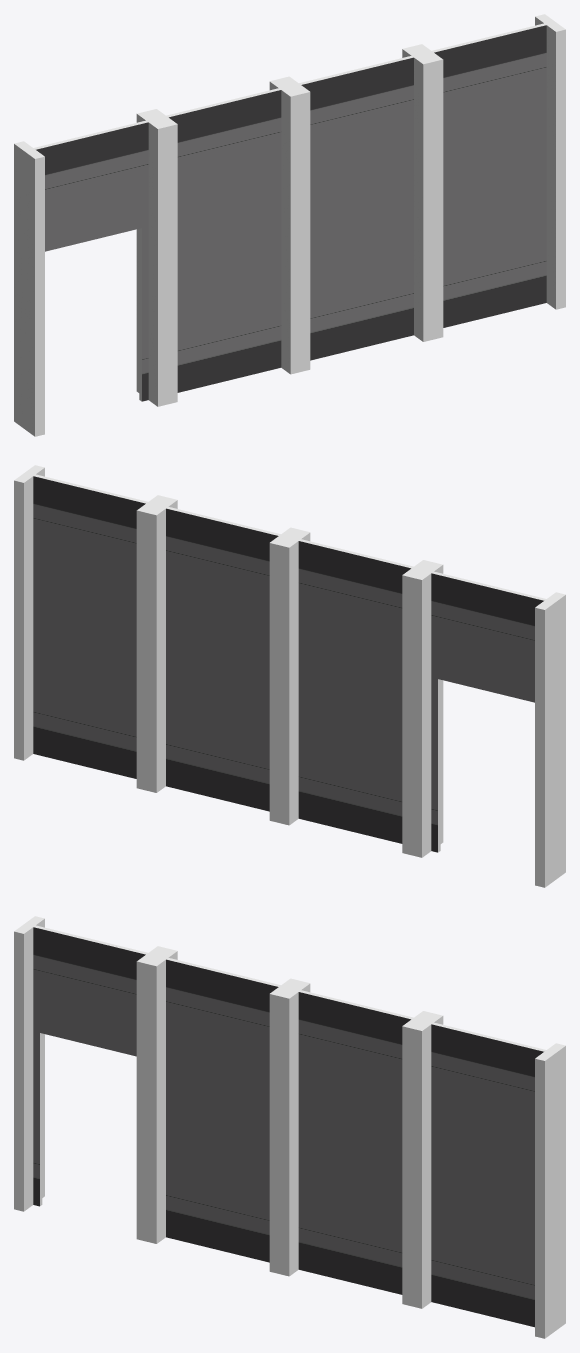
The model's file is CZRoomInsideWall.fbx.
3 renders of one model, top to bottom at view 1: azimuth 30°, elevation 25°; view 2: azimuth 150°, elevation 25°; view 3: azimuth 330°, elevation 25°, orthographic.
Parts seen in each view (by area): view 1: node_id7 (×2); view 2: node_id7 (×2); view 3: node_id7 (×2).
Boxes of the visible parts, x1,y1,x2,y2 form: node_id7 (×2): (14, 14, 565, 436); node_id7 (×2): (14, 465, 565, 887); node_id7 (×2): (14, 916, 565, 1338).
Size of the model in its own units: 0.512 by 0.256 by 0.0352.
Materials: 2 (1 with a texture image).
